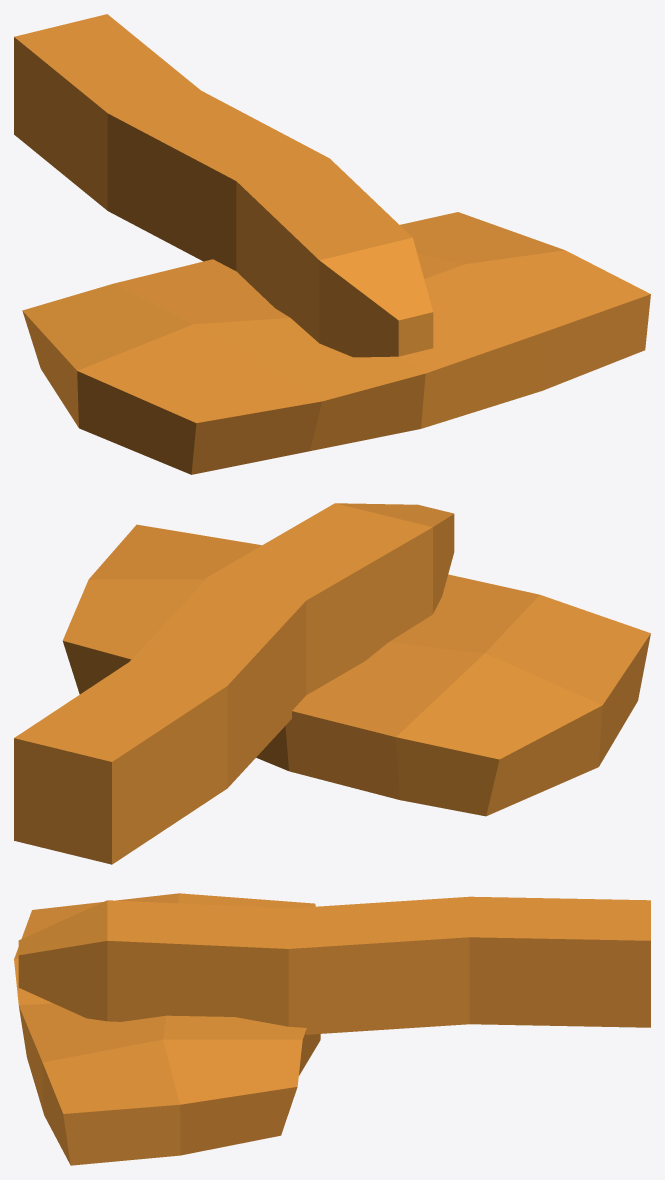
Rendered from Sign.fbx.
3 renders of one model, top to bottom at view 1: azimuth 30°, elevation 25°; view 2: azimuth 150°, elevation 25°; view 3: azimuth 270°, elevation 25°, orthographic. The views are drawn at different scales.
Parts seen in each view (by area): view 1: Cube.009; view 2: Cube.009; view 3: Cube.009.
Part boxes in pixels (x1,y1,x2,y2): Cube.009: (14, 14, 650, 474); Cube.009: (14, 503, 650, 864); Cube.009: (14, 893, 650, 1165).
Size of the model in its own units: 231 by 65.72 by 281.
